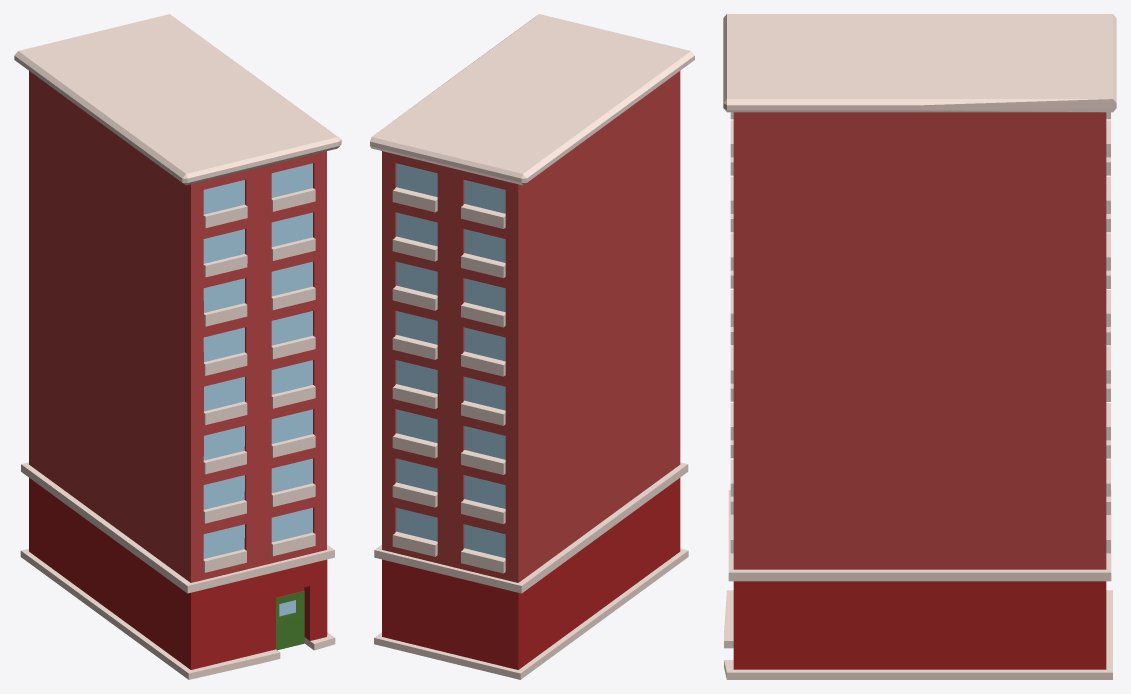
File: flatA.fbx
3 renders of one model, left to right at view 1: azimuth 30°, elevation 25°; view 2: azimuth 150°, elevation 25°; view 3: azimuth 270°, elevation 25°, orthographic. The views are drawn at different scales.
Parts seen in each view (by area): view 1: FlatA; view 2: FlatA; view 3: FlatA.
Part boxes in pixels (bbox=[...]): FlatA: bbox=[14, 14, 341, 679]; FlatA: bbox=[370, 14, 694, 679]; FlatA: bbox=[723, 14, 1116, 679].
Size of the model in its own units: 1102 by 3349 by 2049.
